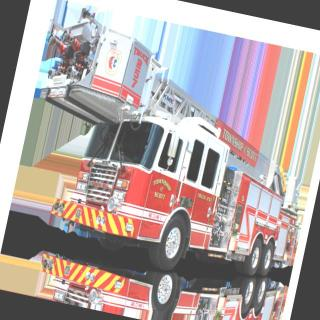Fire_truck: (3, 0, 320, 295)
